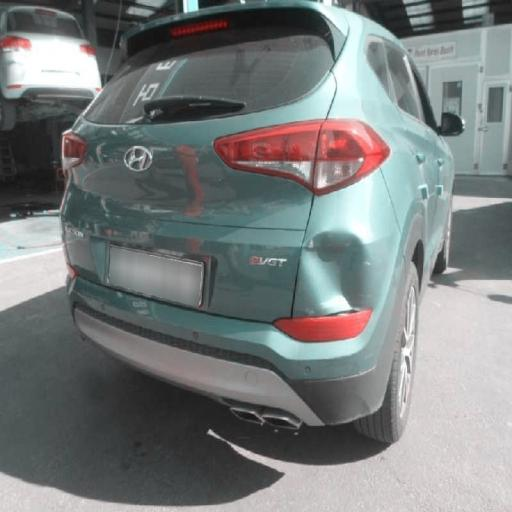scratch: (70, 123, 342, 353)
